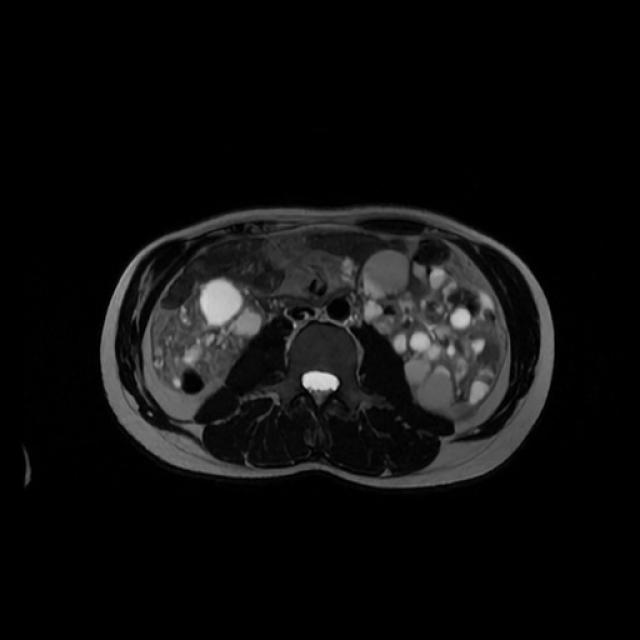sag: (151, 276, 268, 396)
sol: (360, 249, 504, 420)
